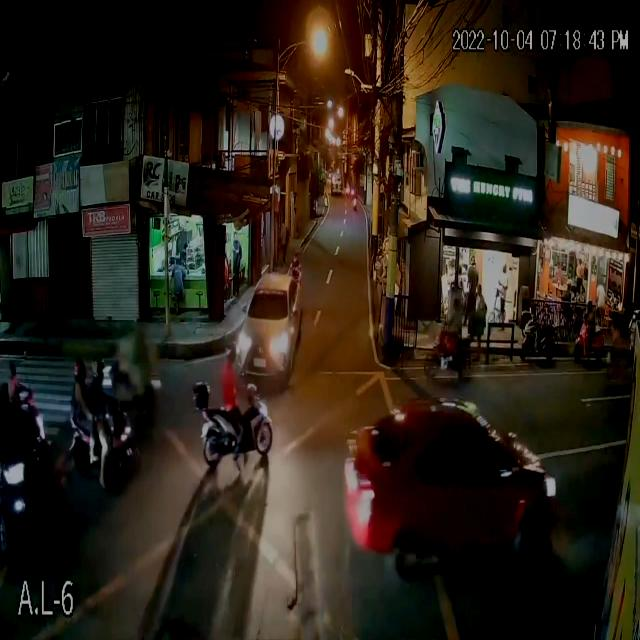Full-Faced: (90, 357, 110, 386), (69, 360, 90, 386), (224, 343, 239, 367)
